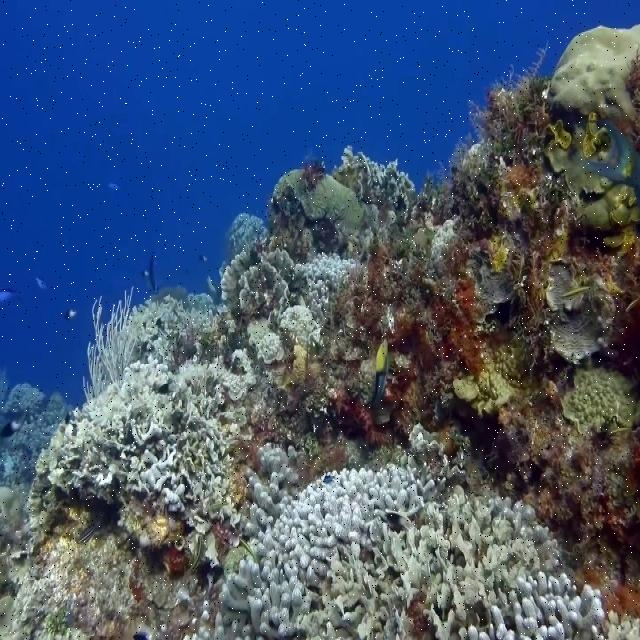reefs: (198, 444, 606, 637)
